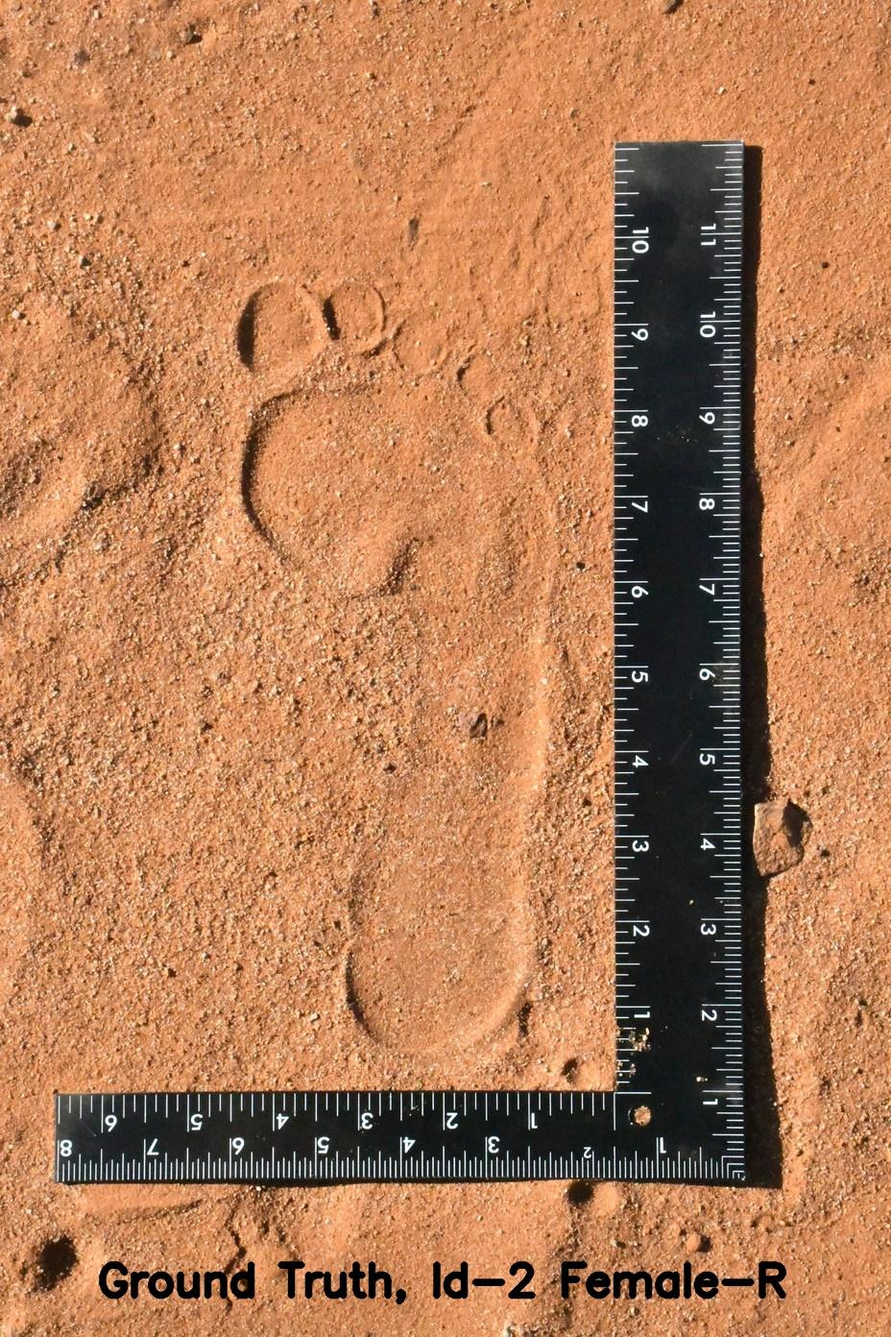human_footprint: (186, 241, 605, 1082)
